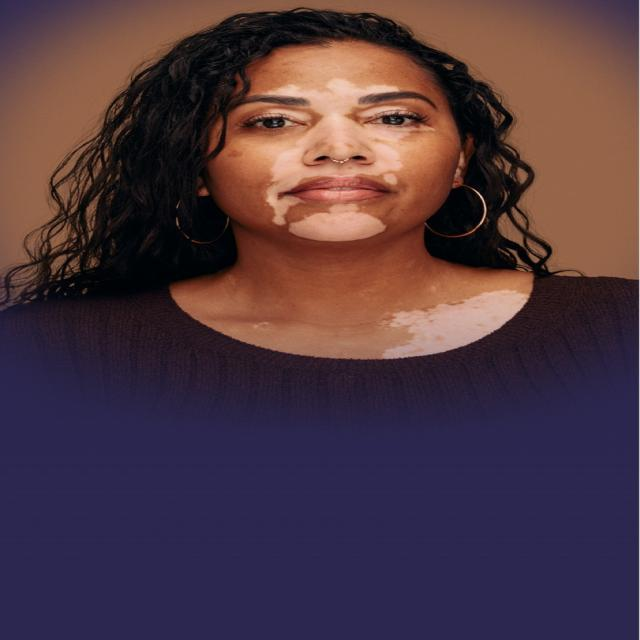vitiligo: (252, 80, 423, 239), (357, 302, 498, 351)
